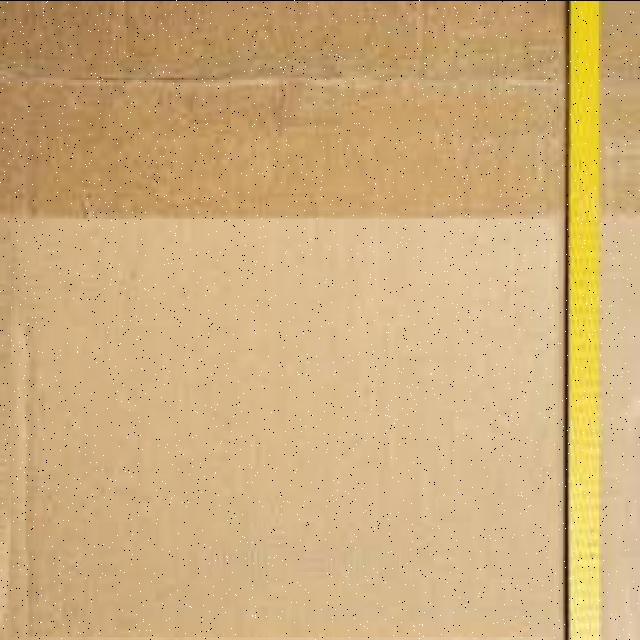normal: (11, 218, 558, 636)
